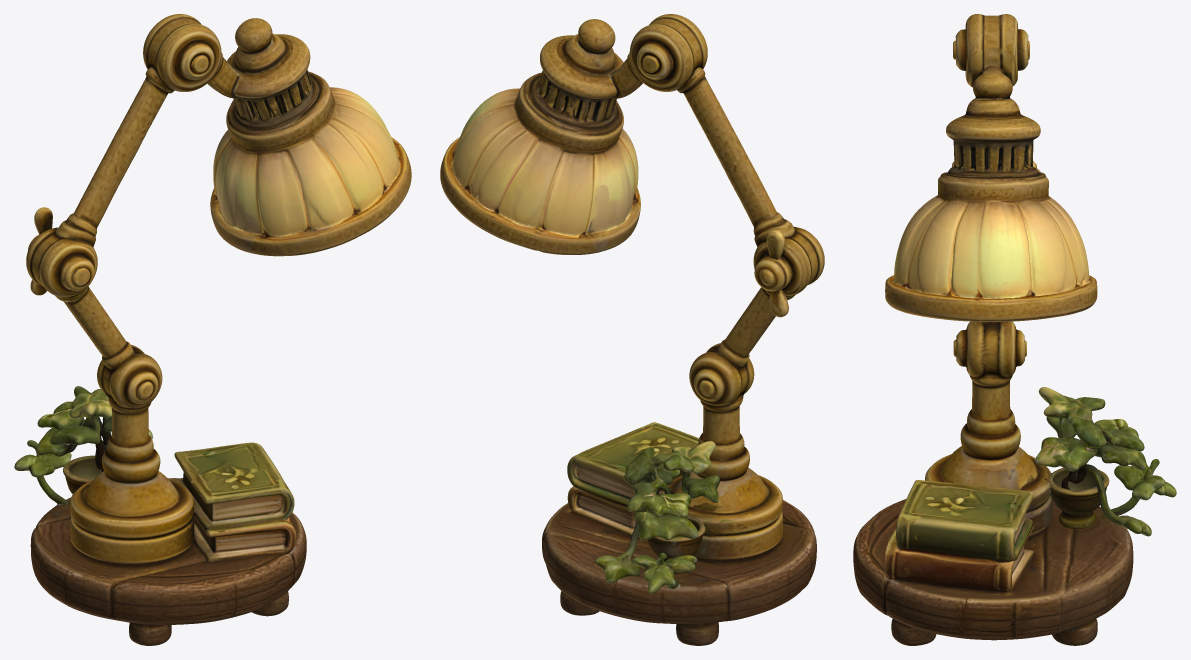
The model's file is C04-3d台灯摆件.glb.
The picture shows the model from 3 angles, left to right: view 1: azimuth 30°, elevation 25°; view 2: azimuth 150°, elevation 25°; view 3: azimuth 270°, elevation 25°; orthographic projection. The views are drawn at different scales.
Visible parts, largest first — view 1: tripo_node_da035d8a-3e50-4fe3-aac6-d0e068e1b157; view 2: tripo_node_da035d8a-3e50-4fe3-aac6-d0e068e1b157; view 3: tripo_node_da035d8a-3e50-4fe3-aac6-d0e068e1b157.
Part boxes in pixels (<box>): tripo_node_da035d8a-3e50-4fe3-aac6-d0e068e1b157: <box>14,14,411,645</box>; tripo_node_da035d8a-3e50-4fe3-aac6-d0e068e1b157: <box>440,14,824,645</box>; tripo_node_da035d8a-3e50-4fe3-aac6-d0e068e1b157: <box>853,14,1176,645</box>.
Bounding box in the file's own units: 0.6649 × 1 × 0.4909.
Materials: 1 (1 with a texture image).
